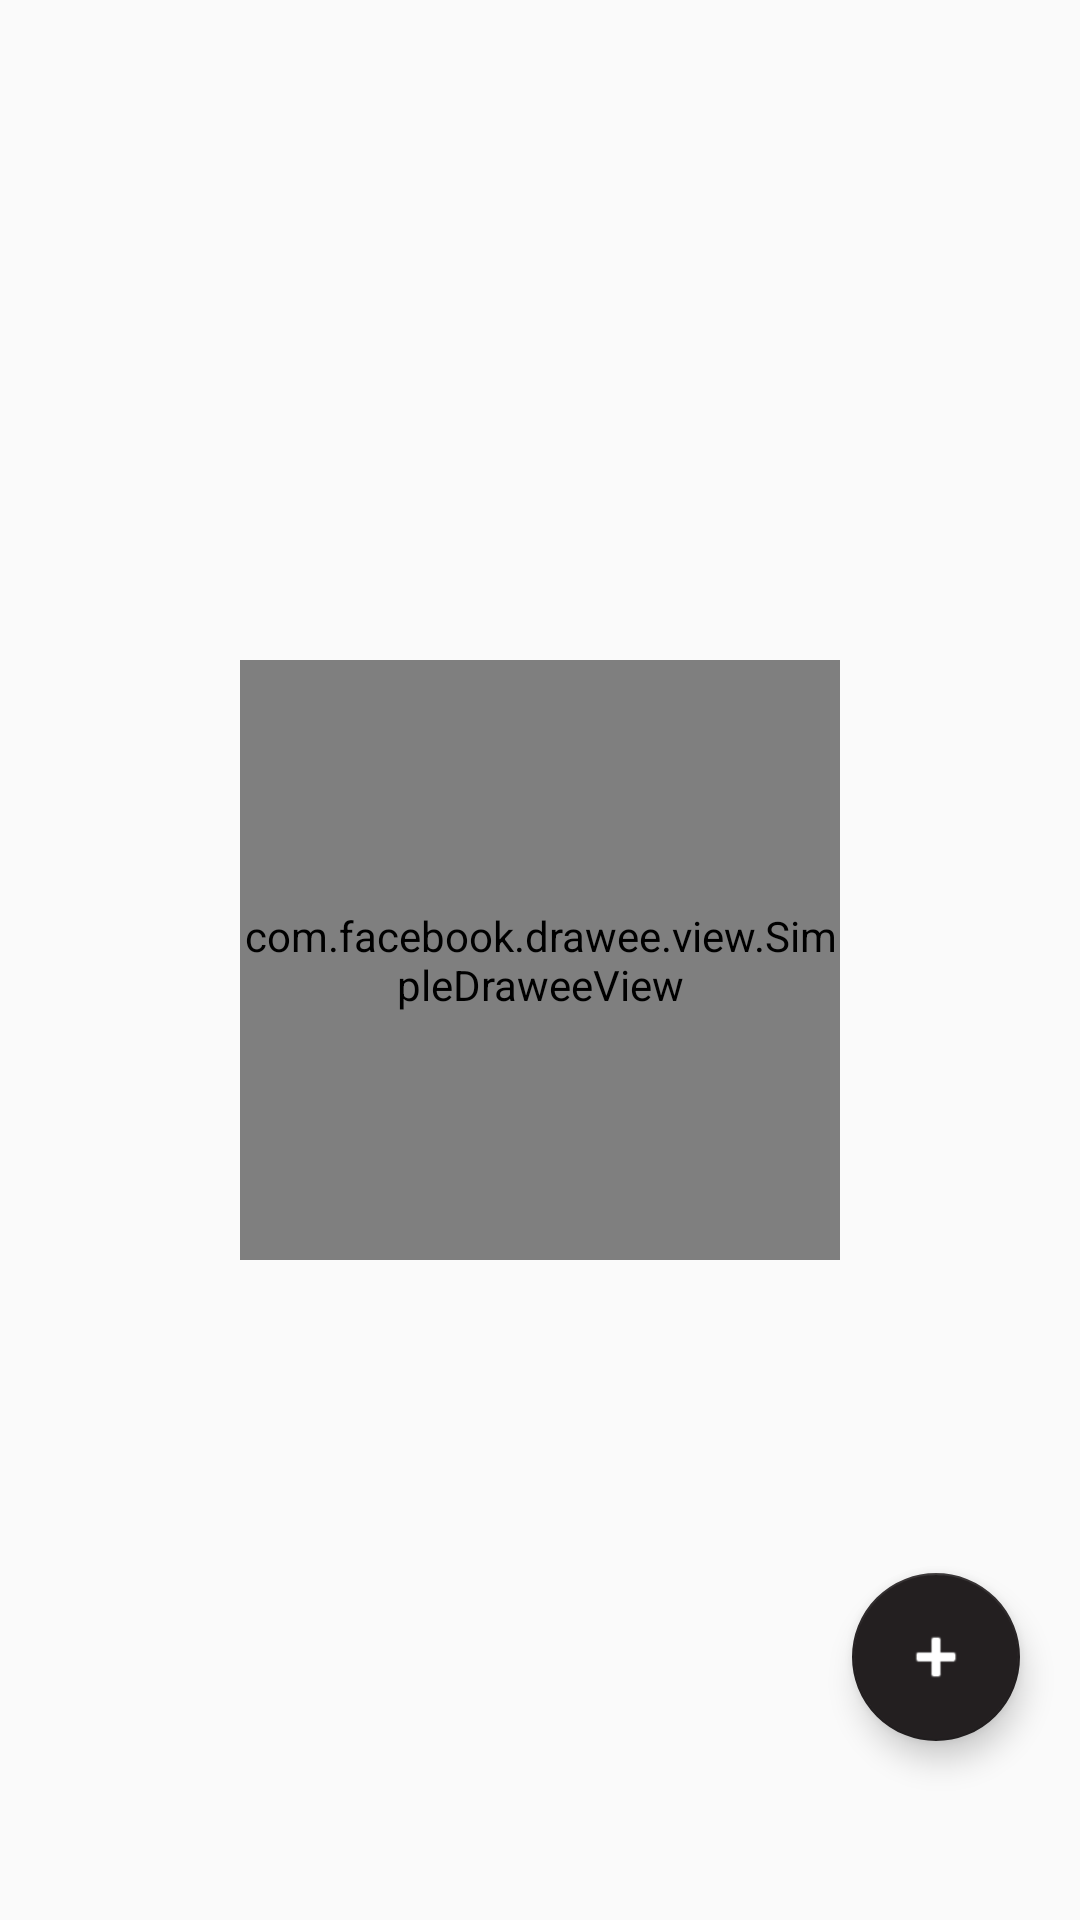

Locate icon controls on the screen. Image size 1080×1920, boxes as (x1, y1, x2, y2).
add: (852, 1573, 1020, 1741)
